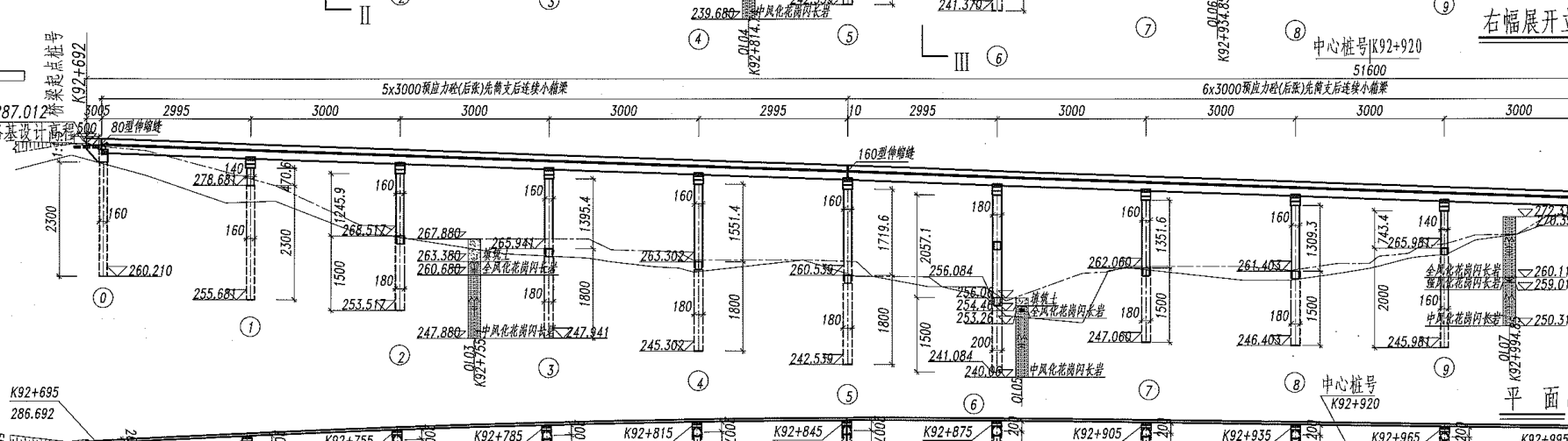A: (78, 60, 1565, 88)
B: (97, 80, 852, 103), (842, 82, 1568, 103)
C: (780, 176, 860, 411), (330, 158, 415, 374), (633, 171, 715, 394), (491, 165, 568, 383), (1228, 190, 1307, 399), (1088, 185, 1162, 407), (1377, 196, 1457, 381), (188, 152, 263, 340), (954, 181, 1003, 416)
